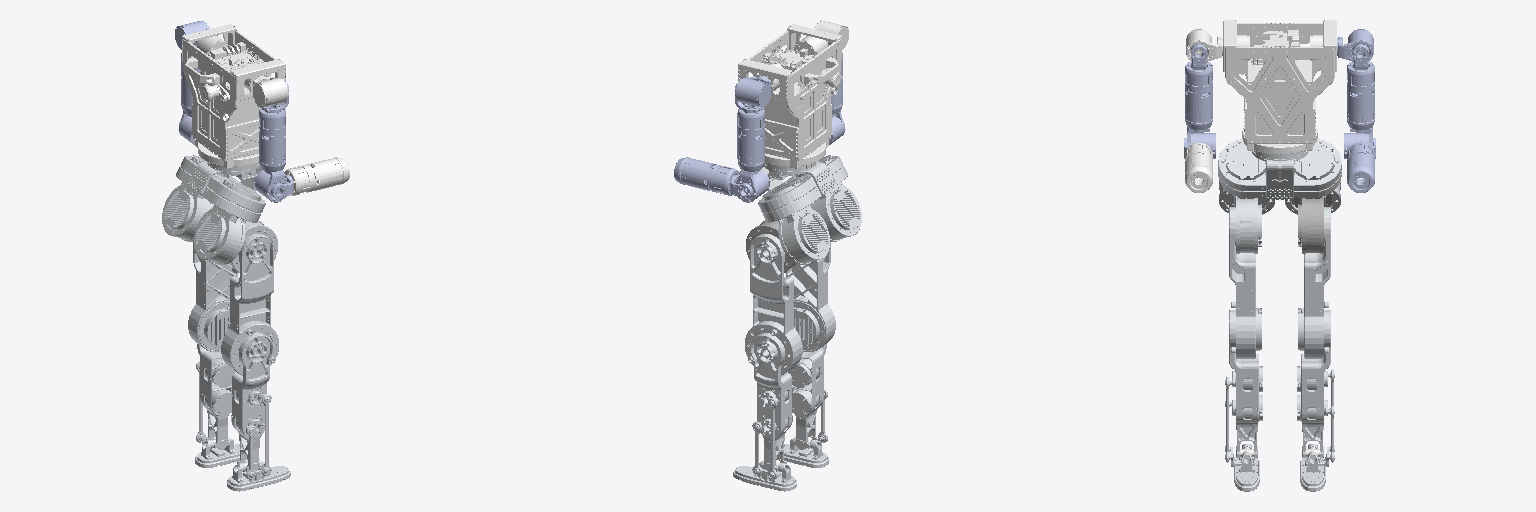
--- Facts derived from the render (not from the file) ---
Views: 3 orthographic renders of the robot side by side, from view 1: azimuth 30°, elevation 25°; view 2: azimuth 150°, elevation 25°; view 3: azimuth 270°, elevation 25°.
Model atom01urdf with 24 links and 23 joints (23 revolute), rooted at base_link, posed every joint at zero.
Visible links, largest first — view 1: torso_link, right_thigh_pitch_link, right_knee_link, base_link, left_thigh_pitch_link, left_knee_link, right_thigh_yaw_link, right_arm_yaw_link, left_thigh_yaw_link, right_elbow_yaw_link, right_ankle_roll_link, right_arm_pitch_link (+3 smaller); view 2: torso_link, left_thigh_pitch_link, left_knee_link, base_link, right_thigh_pitch_link, right_knee_link, left_thigh_yaw_link, left_arm_yaw_link, right_thigh_yaw_link, left_elbow_yaw_link, left_ankle_roll_link, left_arm_pitch_link (+3 smaller); view 3: torso_link, base_link, left_knee_link, right_knee_link, left_thigh_pitch_link, right_thigh_pitch_link, left_arm_yaw_link, right_arm_yaw_link, left_thigh_roll_link, right_thigh_roll_link, right_elbow_yaw_link, left_elbow_yaw_link (+4 smaller).
Boxes of the visible links, <box> form: torso_link: <box>182,24,285,168</box>; right_thigh_pitch_link: <box>221,233,278,375</box>; right_knee_link: <box>231,332,273,479</box>; base_link: <box>176,150,265,222</box>; left_thigh_pitch_link: <box>188,242,237,351</box>; left_knee_link: <box>196,344,235,449</box>; right_thigh_yaw_link: <box>194,205,245,264</box>; right_arm_yaw_link: <box>254,108,287,202</box>; left_thigh_yaw_link: <box>162,182,213,241</box>; right_elbow_yaw_link: <box>284,157,349,195</box>; right_ankle_roll_link: <box>227,459,290,491</box>; right_arm_pitch_link: <box>253,76,288,107</box>; torso_link: <box>738,24,841,168</box>; left_thigh_pitch_link: <box>745,234,802,375</box>; left_knee_link: <box>750,333,792,479</box>; base_link: <box>758,150,847,222</box>; right_thigh_pitch_link: <box>786,242,835,351</box>; right_knee_link: <box>788,344,827,449</box>; left_thigh_yaw_link: <box>778,205,829,264</box>; left_arm_yaw_link: <box>736,108,769,202</box>; right_thigh_yaw_link: <box>810,182,861,241</box>; left_elbow_yaw_link: <box>674,157,739,195</box>; left_ankle_roll_link: <box>733,460,796,491</box>; left_arm_pitch_link: <box>735,76,770,107</box>; torso_link: <box>1223,20,1336,154</box>; base_link: <box>1218,139,1341,199</box>; left_knee_link: <box>1297,310,1334,462</box>; right_knee_link: <box>1225,310,1262,462</box>; left_thigh_pitch_link: <box>1298,207,1330,358</box>; right_thigh_pitch_link: <box>1229,207,1261,358</box>; left_arm_yaw_link: <box>1344,62,1374,158</box>; right_arm_yaw_link: <box>1185,62,1215,158</box>; left_thigh_roll_link: <box>1294,194,1331,253</box>; right_thigh_roll_link: <box>1228,194,1265,253</box>; right_elbow_yaw_link: <box>1185,142,1212,192</box>; left_elbow_yaw_link: <box>1347,142,1374,192</box>.
Bounding box of the posed robot: 0.3188 × 0.4235 × 1.06 m (x, y, z).
Meshes: 24 distinct files referenced, 24 mesh visuals loaded (24 binary STL).

The robot description file, URDF, robot "atom01urdf":
<?xml version="1.0" encoding="utf-8"?>
<robot
  name="atom01urdf">
  <link
    name="base_link">
    <inertial>
    <mass value="5.38006123"/>
    <origin xyz="-0.04747316 -0.00000245 -0.01033754" rpy="0 0 0"/>
    <inertia ixx="0.03019625" ixy="0.00000001" ixz="-0.00325334"
             iyy="0.02710884" iyz="0.00000014"
             izz="0.04164465"/>
    </inertial>
    <visual>
      <origin
        xyz="0 0 0"
        rpy="0 0 0" />
      <geometry>
        <mesh
          filename="./meshes/base_link.STL" />
      </geometry>
      <material
        name="">
        <color
          rgba="0.898039215686275 0.917647058823529 0.929411764705882 1" />
      </material>
    </visual>
    <collision>
      <origin
        xyz="0 0 0"
        rpy="0 0 0" />
      <geometry>
        <mesh
          filename="./meshes/base_link.STL" />
      </geometry>
    </collision>
  </link>
  <link
    name="left_thigh_yaw_link">
    <inertial>
    <mass value="1.68866185"/>
    <origin xyz="-0.03860399 0.00000000 -0.05488876" rpy="0 0 0"/>
    <inertia ixx="0.00828412" ixy="0.00000001" ixz="-0.00427630"
             iyy="0.01007750" iyz="0.00000000"
             izz="0.00500466"/>
    </inertial>
    <visual>
      <origin
        xyz="0 0 0"
        rpy="0 0 0" />
      <geometry>
        <mesh
          filename="./meshes/left_thigh_yaw_link.STL" />
      </geometry>
      <material
        name="">
        <color
          rgba="0.898039215686275 0.917647058823529 0.929411764705882 1" />
      </material>
    </visual>
    <!-- <collision>
      <origin
        xyz="0 0 0"
        rpy="0 0 0" />
      <geometry>
        <mesh
          filename="./meshes/left_thigh_yaw_link.STL" />
      </geometry>
    </collision> -->
  </link>
  <joint
    name="left_thigh_yaw_joint"
    type="revolute">
    <origin
      xyz="-0.071093 0.0725 -0.051778"
      rpy="0 0 0" />
    <parent
      link="base_link" />
    <child
      link="left_thigh_yaw_link" />
    <axis
      xyz="-0.5 0 -0.86603" />    
    <limit
      lower="-1"
      upper="0.2"
      effort="80"
      velocity="10.47" />
  </joint>
  <link
    name="left_thigh_roll_link">
    <inertial>
    <mass value="1.71632646"/>
    <origin xyz="0.05565085 -0.00585964 -0.03213037" rpy="0 0 0"/>
    <inertia ixx="0.00408080" ixy="0.00060873" ixz="0.00328672"
             iyy="0.01086273" iyz="-0.00035146"
             izz="0.00787597"/>
    </inertial>
    <visual>
      <origin
        xyz="0 0 0"
        rpy="0 0 0" />
      <geometry>
        <mesh
          filename="./meshes/left_thigh_roll_link.STL" />
      </geometry>
      <material
        name="">
        <color
          rgba="0.752941176470588 0.752941176470588 0.752941176470588 1" />
      </material>
    </visual>
    <!-- <collision>
      <origin
        xyz="0 0 0"
        rpy="0 0 0" />
      <geometry>
        <mesh
          filename="./meshes/left_thigh_roll_link.STL" />
      </geometry>
    </collision> -->
  </link>
  <joint
    name="left_thigh_roll_joint"
    type="revolute">
    <origin
      xyz="-0.017693 0 -0.072346"
      rpy="0 0 0" />
    <parent
      link="left_thigh_yaw_link" />
    <child
      link="left_thigh_roll_link" />
    <axis
      xyz="0.86603 0 -0.5" />
    <limit
      lower="-0.2"
      upper="1"
      effort="80"
      velocity="10.47" />
  </joint>
  <link
    name="left_thigh_pitch_link">
    <inertial>
    <mass value="2.34600762"/>
    <origin xyz="0.00004587 -0.01904764 -0.19858147" rpy="0 0 0"/>
    <inertia ixx="0.11355467" ixy="-0.00000105" ixz="0.00003567"
             iyy="0.11410206" iyz="-0.01102469"
             izz="0.00388054"/>
    </inertial>
    <visual>
      <origin
        xyz="0 0 0"
        rpy="0 0 0" />
      <geometry>
        <mesh
          filename="./meshes/left_thigh_pitch_link.STL" />
      </geometry>
      <material
        name="">
        <color
          rgba="0.898039215686275 0.917647058823529 0.929411764705882 1" />
      </material>
    </visual>
    <!-- <collision>
      <origin
        xyz="0 0 0"
        rpy="0 0 0" />
      <geometry>
        <mesh
          filename="./meshes/left_thigh_pitch_link.STL" />
      </geometry>
    </collision> -->
    <collision>
      <origin
        xyz="0.0 0 -0.08"
        rpy="0 0 0" />
      <geometry>
        <box name="left_thigh_pitch_link" size="0.08 0.1 0.22"/>
      </geometry>
    </collision>
  </link>
  <joint
    name="left_thigh_pitch_joint"
    type="revolute">
    <origin
      xyz="0.060622 0.02085 -0.035"
      rpy="0 0 0" />
    <parent
      link="left_thigh_roll_link" />
    <child
      link="left_thigh_pitch_link" />
    <axis
      xyz="0 1 0" />
    <limit
      lower="-1"
      upper="1"
      effort="80"
      velocity="10.47" />
  </joint>
  <link
    name="left_knee_link">
    <inertial>
    <mass value="1.79036871"/>
    <origin xyz="-0.00032236 -0.01251629 -0.14554011" rpy="0 0 0"/>
    <inertia ixx="0.05037722" ixy="0.00001321" ixz="-0.00005629"
             iyy="0.04980070" iyz="-0.00362648"
             izz="0.00144706"/>
    </inertial>
    <visual>
      <origin
        xyz="0 0 0"
        rpy="0 0 0" />
      <geometry>
        <mesh
          filename="./meshes/left_knee_link.STL" />
      </geometry>
      <material
        name="">
        <color
          rgba="0.898039215686275 0.917647058823529 0.929411764705882 1" />
      </material>
    </visual>
    <!-- <collision>
      <origin
        xyz="0 0 0"
        rpy="0 0 0" />
      <geometry>
        <mesh
          filename="./meshes/left_knee_link.STL" />
      </geometry>
    </collision> -->
    <collision>
      <origin
        xyz="0.0 0 -0.15"
        rpy="0 0 0" />
      <geometry>
        <box name="right_knee_link" size="0.08 0.08 0.22"/>
      </geometry>
    </collision>
  </link>
  <joint
    name="left_knee_joint"
    type="revolute">
    <origin
      xyz="0 0 -0.25"
      rpy="0 0 0" />
    <parent
      link="left_thigh_pitch_link" />
    <child
      link="left_knee_link" />
    <axis
      xyz="0 1 0" />
    <limit
      lower="-0.2"
      upper="2.5"
      effort="80"
      velocity="10.47" />
  </joint>
  <link
    name="left_ankle_pitch_link">
    <inertial>
      <origin
        xyz="0 0 0"
        rpy="0 0 0" />
      <mass
        value="0.084" />
      <inertia
        ixx="0.00000863"
        ixy="0"
        ixz="0"
        iyy="0.00000863"
        iyz="0"
        izz="0.00001448" />
    </inertial>
    <visual>
      <origin
        xyz="0 0 0"
        rpy="0 0 0" />
      <geometry>
        <mesh
          filename="./meshes/left_ankle_pitch_link.STL" />
      </geometry>
      <material
        name="">
        <color
          rgba="1 1 1 1" />
      </material>
    </visual>
    <!-- <collision>
      <origin
        xyz="0 0 0"
        rpy="0 0 0" />
      <geometry>
        <mesh
          filename="./meshes/left_ankle_pitch_link.STL" />
      </geometry>
    </collision> -->
  </link>
  <joint
    name="left_ankle_pitch_joint"
    type="revolute">
    <origin
      xyz="0 -0.02085 -0.3"
      rpy="0 0 0" />
    <parent
      link="left_knee_link" />
    <child
      link="left_ankle_pitch_link" />
    <axis
      xyz="0 1 0" />
    <limit
      lower="-0.6"
      upper="0.6"
      effort="18"
      velocity="3.7692" />
  </joint>
  <link
    name="left_ankle_roll_link">
    <inertial>
      <origin
        xyz="0.01590617  0.00230268 -0.02949007"
        rpy="0 0 0" />
      <mass
        value="0.30640039 " />
      <inertia ixx="0.00038476" ixy="0.0" ixz="0.00017084"
           iyy="0.00086435" iyz="0.00000894"
           izz="0.00063926"/>
    </inertial>
    <visual>
      <origin
        xyz="0 0 0"
        rpy="0 0 0" />
      <geometry>
        <mesh
          filename="./meshes/left_ankle_roll_link.STL" />
      </geometry>
      <material
        name="">
        <color
          rgba="0.898039215686275 0.917647058823529 0.929411764705882 1" />
      </material>
    </visual>
    <collision>
      <origin
        xyz="0 0 0"
        rpy="0 0 0" />
      <geometry>
        <mesh
          filename="./meshes/left_ankle_roll_link.STL" />
      </geometry>
    </collision>
  </link>
  <joint
    name="left_ankle_roll_joint"
    type="revolute">
    <origin
      xyz="0 0 0"
      rpy="0 0 0" />
    <parent
      link="left_ankle_pitch_link" />
    <child
      link="left_ankle_roll_link" />
    <axis
      xyz="1 0 0" />
    <limit
      lower="-0.5"
      upper="0.5"
      effort="18"
      velocity="3.7692" />
  </joint>
  <link
    name="right_thigh_yaw_link">
    <inertial>
    <mass value="1.68565743"/>
    <origin xyz="-0.03859500 0.00000000 -0.05502715" rpy="0 0 0"/>
    <inertia ixx="0.00828370" ixy="0.00000001" ixz="-0.00427632"
             iyy="0.01007691" iyz="0.00000000"
             izz="0.00500350"/>
    </inertial>
    <visual>
      <origin
        xyz="0 0 0"
        rpy="0 0 0" />
      <geometry>
        <mesh
          filename="./meshes/right_thigh_yaw_link.STL" />
      </geometry>
      <material
        name="">
        <color
          rgba="0.898039215686275 0.917647058823529 0.929411764705882 1" />
      </material>
    </visual>
    <!-- <collision>
      <origin
        xyz="0 0 0"
        rpy="0 0 0" />
      <geometry>
        <mesh
          filename="./meshes/right_thigh_yaw_link.STL" />
      </geometry>
    </collision> -->
  </link>
  <joint
    name="right_thigh_yaw_joint"
    type="revolute">
    <origin
      xyz="-0.071093 -0.0725 -0.051778"
      rpy="0 0 0" />
    <parent
      link="base_link" />
    <child
      link="right_thigh_yaw_link" />
    <axis
      xyz="-0.5 0 -0.86603" />
    <limit
      lower="-0.2"
      upper="1"
      effort="80"
      velocity="10.47" />
  </joint>
  <link
    name="right_thigh_roll_link">
    <inertial>
    <mass value="1.71632646"/>
    <origin xyz="0.05695017 0.00585964 -0.03287986" rpy="0 0 0"/>
    <inertia ixx="0.00416447" ixy="-0.00062180" ixz="0.00343166"
             iyy="0.01119747" iyz="0.00035899"
             izz="0.00812703"/>
    </inertial>
    <visual>
      <origin
        xyz="0 0 0"
        rpy="0 0 0" />
      <geometry>
        <mesh
          filename="./meshes/right_thigh_roll_link.STL" />
      </geometry>
      <material
        name="">
        <color
          rgba="0.898039215686275 0.917647058823529 0.929411764705882 1" />
      </material>
    </visual>
    <!-- <collision>
      <origin
        xyz="0 0 0"
        rpy="0 0 0" />
      <geometry>
        <mesh
          filename="./meshes/right_thigh_roll_link.STL" />
      </geometry>
    </collision> -->
  </link>
  <joint
    name="right_thigh_roll_joint"
    type="revolute">
    <origin
      xyz="-0.0189924084475403 0 -0.0715958163677252"
      rpy="0 0 0" />
    <parent
      link="right_thigh_yaw_link" />
    <child
      link="right_thigh_roll_link" />
    <axis
      xyz="0.86603 0 -0.5" />
    <limit
      lower="-1"
      upper="0.2"
      effort="80"
      velocity="10.47" />
  </joint>
  <link
    name="right_thigh_pitch_link">
    <inertial>
    <mass value="2.34600762"/>
    <origin xyz="0.00004584 0.01904764 -0.19858147" rpy="0 0 0"/>
    <inertia ixx="0.11355467" ixy="0.00000105" ixz="0.00003566"
             iyy="0.11410206" iyz="0.01102469"
             izz="0.00388054"/>
    </inertial>
    <visual>
      <origin
        xyz="0 0 0"
        rpy="0 0 0" />
      <geometry>
        <mesh
          filename="./meshes/right_thigh_pitch_link.STL" />
      </geometry>
      <material
        name="">
        <color
          rgba="0.898039215686275 0.917647058823529 0.929411764705882 1" />
      </material>
    </visual>
    <!-- <collision>
      <origin
        xyz="0 0 0"
        rpy="0 0 0" />
      <geometry>
        <mesh
          filename="./meshes/right_thigh_pitch_link.STL" />
      </geometry>
    </collision> -->
     <collision>
      <origin
        xyz="0.0 0 -0.08"
        rpy="0 0 0" />
      <geometry>
        <box name="right_thigh_pitch_link" size="0.08 0.1 0.22"/>
      </geometry>
    </collision>
  </link>
  <joint
    name="right_thigh_pitch_joint"
    type="revolute">
    <origin
      xyz="0.0619208163652291 -0.0208499999999942 -0.0357500000093095"
      rpy="0 0 0" />
    <parent
      link="right_thigh_roll_link" />
    <child
      link="right_thigh_pitch_link" />
    <axis
      xyz="0 1 0" />
    <limit
      lower="-1"
      upper="1"
      effort="80"
      velocity="10.47" />
  </joint>
  <link
    name="right_knee_link">
    <inertial>
    <mass value="1.79036871"/>
    <origin xyz="0.00034876 0.01251629 -0.14550316" rpy="0 0 0"/>
    <inertia ixx="0.05035671" ixy="0.00001321" ixz="0.00006361"
             iyy="0.04978019" iyz="0.00362648"
             izz="0.00144706"/>
    </inertial>
    <visual>
      <origin
        xyz="0 0 0"
        rpy="0 0 0" />
      <geometry>
        <mesh
          filename="./meshes/right_knee_link.STL" />
      </geometry>
      <material
        name="">
        <color
          rgba="0.898039215686275 0.917647058823529 0.929411764705882 1" />
      </material>
    </visual>
    <!-- <collision>
      <origin
        xyz="0 0 0"
        rpy="0 0 0" />
      <geometry>
        <mesh
          filename="./meshes/right_knee_link.STL" />
      </geometry>
    </collision> -->
    <collision>
      <origin
        xyz="0.0 0 -0.15"
        rpy="0 0 0" />
      <geometry>
        <box name="right_knee_link" size="0.08 0.08 0.22"/>
      </geometry>
    </collision>
  </link>
  <joint
    name="right_knee_joint"
    type="revolute">
    <origin
      xyz="0 0 -0.250000000000016"
      rpy="0 0 0" />
    <parent
      link="right_thigh_pitch_link" />
    <child
      link="right_knee_link" />
    <axis
      xyz="0 1 0" />
    <limit
      lower="-0.2"
      upper="2.5"
      effort="80"
      velocity="10.47" />
  </joint>
  <link
    name="right_ankle_pitch_link">
    <inertial>
      <origin
        xyz="0 0 0"
        rpy="0 0 0" />
      <mass
        value="0.084" />
      <inertia
        ixx="0.00000863"
        ixy="0"
        ixz="0"
        iyy="0.00000863"
        iyz="0"
        izz="0.00001448" />
    </inertial>
    <visual>
      <origin
        xyz="0 0 0"
        rpy="0 0 0" />
      <geometry>
        <mesh
          filename="./meshes/right_ankle_pitch_link.STL" />
      </geometry>
      <material
        name="">
        <color
          rgba="1 1 1 1" />
      </material>
    </visual>
    <!-- <collision>
      <origin
        xyz="0 0 0"
        rpy="0 0 0" />
      <geometry>
        <mesh
          filename="./meshes/right_ankle_pitch_link.STL" />
      </geometry>
    </collision> -->
  </link>
  <joint
    name="right_ankle_pitch_joint"
    type="revolute">
    <origin
      xyz="0 0.0208500000000073 -0.299999999999986"
      rpy="0 0 0" />
    <parent
      link="right_knee_link" />
    <child
      link="right_ankle_pitch_link" />
    <axis
      xyz="0 1 0" />
    <limit
      lower="-0.6"
      upper="0.6"
      effort="18"
      velocity="3.7692" />
  </joint>
  <link
    name="right_ankle_roll_link">
    <inertial>
      <origin
        xyz="0.01590617 -0.00230290  -0.02949007"
        rpy="0 0 0" />
      <mass
        value=" 0.30640039" />
       <inertia ixx="0.00038476" ixy="0.00000000" ixz="0.00017084"
           iyy="0.00086435" iyz="-0.00000894"
           izz="0.00063926"/>
    </inertial>
    <visual>
      <origin
        xyz="0 0 0"
        rpy="0 0 0" />
      <geometry>
        <mesh
          filename="./meshes/right_ankle_roll_link.STL" />
      </geometry>
      <material
        name="">
        <color
          rgba="0.898039215686275 0.917647058823529 0.929411764705882 1" />
      </material>
    </visual>
    <collision>
      <origin
        xyz="0 0 0"
        rpy="0 0 0" />
      <geometry>
        <mesh
          filename="./meshes/right_ankle_roll_link.STL" />
      </geometry>
    </collision>
  </link>
  <joint
    name="right_ankle_roll_joint"
    type="revolute">
    <origin
      xyz="0 0 0"
      rpy="0 0 0" />
    <parent
      link="right_ankle_pitch_link" />
    <child
      link="right_ankle_roll_link" />
    <axis
      xyz="1 0 0" />
    <limit
      lower="-0.5"
      upper="0.5"
      effort="18"
      velocity="3.7692" />
  </joint>
  <link
    name="torso_link">
    <inertial>
      <origin
        xyz=" -0.00232713 -0.00003499 0.09671181"
        rpy="0 0 0" />
      <mass
        value="7.70005232 " />
       <inertia ixx="0.14285885" ixy="-0.00004101" ixz="0.00400640"
           iyy="0.13043257" iyz="0.00003257"
           izz="0.03968469"/>
    </inertial>
    <visual>
      <origin
        xyz="0 0 0"
        rpy="0 0 0" />
      <geometry>
        <mesh
          filename="./meshes/torso_link.STL" />
      </geometry>
      <material
        name="">
        <color
          rgba="1 1 1 1" />
      </material>
    </visual>
    <collision>
      <origin
        xyz="0 0 0.15"
        rpy="0 0 0" />
      <geometry>
        <box name="torso_link" size="0.16 0.16 0.22"/>
      </geometry>
    </collision>
  </link>
  <joint
    name="torso_joint"
    type="revolute">
    <origin
      xyz="-0.0281649492242451 0 0.0672000000054882"
      rpy="0 0 0" />
    <parent
      link="base_link" />
    <child
      link="torso_link" />
    <axis
      xyz="0 0 1" />
    <limit
      lower="-3.14"
      upper="3.14"
      effort="80"
      velocity="10.47" />
  </joint>
  <link
    name="left_arm_pitch_link">
    <inertial>
    <mass value="0.47178757"/>
    <origin xyz="-0.00442275 0.04993792 0.00005596" rpy="0 0 0"/>
    <inertia ixx="0.00133228" ixy="0.00012643" ixz="-0.00000056"
             iyy="0.00008982" iyz="-0.00000148"
             izz="0.00137408"/>
    </inertial>
    <visual>
      <origin
        xyz="0 0 0"
        rpy="0 0 0" />
      <geometry>
        <mesh
          filename="./meshes/left_arm_pitch_link.STL" />
      </geometry>
      <material
        name="">
        <color
          rgba="0.796078431372549 0.823529411764706 0.937254901960784 1" />
      </material>
    </visual>
    <collision>
      <origin
        xyz="0 0.055 0"
        rpy="0 1.57 0" />
      <geometry>
         <cylinder radius="0.03" length="0.05"/>
      </geometry>
    </collision>
  </link>
  <joint
    name="left_arm_pitch_joint"
    type="revolute">
    <origin
      xyz="0 0.121749999999383 0.206175860782433"
      rpy="0 0 0" />
    <parent
      link="torso_link" />
    <child
      link="left_arm_pitch_link" />
    <axis
      xyz="0 1 0" />
    <limit
      lower="-1.57"
      upper="1.57"
      effort="18"
      velocity="3.7692" />
  </joint>
  <link
    name="left_arm_roll_link">
    <inertial>
      <origin
        xyz="-0.00433076 0 -0.02378501"
        rpy="0 0 0" />
      <mass
        value="0.09168685" />
     <inertia ixx="0.00010210" ixy="0.0" ixz="-0.00002948"
           iyy="0.00011636" iyz="0.0"
           izz="0.00003231"/>
    </inertial>
    <visual>
      <origin
        xyz="0 0 0"
        rpy="0 0 0" />
      <geometry>
        <mesh
          filename="./meshes/left_arm_roll_link.STL" />
      </geometry>
      <material
        name="">
        <color
          rgba="0.796078431372549 0.823529411764706 0.937254901960784 1" />
      </material>
    </visual>
    <collision>
      <origin
        xyz="-0.02 0 -0.12"
        rpy="0 0 0" />
      <geometry>
         <cylinder radius="0.03" length="0.10"/>
      </geometry>
    </collision>
  </link>
  <joint
    name="left_arm_roll_joint"
    type="revolute">
    <origin
      xyz="0.0200000000000018 0.056 0"
      rpy="0 0 0" />
    <parent
      link="left_arm_pitch_link" />
    <child
      link="left_arm_roll_link" />
    <axis
      xyz="1 0 0" />
    <limit
      lower="-0.25"
      upper="1"
      effort="18"
      velocity="3.7692" />
  </joint>
  <link
    name="left_arm_yaw_link">
    <inertial>
    <mass value="1.15324429"/>
    <origin xyz="-0.00004328 -0.00182110 -0.10615897" rpy="0 0 0"/>
    <inertia ixx="0.01919610" ixy="-0.00000011" ixz="-0.00000607"
             iyy="0.01915491" iyz="-0.00040415"
             izz="0.00033463"/>
    </inertial>
    <visual>
      <origin
        xyz="0 0 0"
        rpy="0 0 0" />
      <geometry>
        <mesh
          filename="./meshes/left_arm_yaw_link.STL" />
      </geometry>
      <material
        name="">
        <color
          rgba="0.796078431372549 0.823529411764706 0.937254901960784 1" />
      </material>
    </visual>
    <collision>
      <origin
        xyz="0 0 -0.19"
        rpy="0 1.57 1.57" />
      <geometry>
        <cylinder radius="0.03" length="0.05"/>
      </geometry>
    </collision>
  </link>
  <joint
    name="left_arm_yaw_joint"
    type="revolute">
    <origin
      xyz="-0.0200000000000002 0 -0.049999999999998"
      rpy="0 0 0" />
    <parent
      link="left_arm_roll_link" />
    <child
      link="left_arm_yaw_link" />
    <axis
      xyz="0 0 -1" />
    <limit
      lower="-1.57"
      upper="1.57"
      effort="18"
      velocity="3.7692" />
  </joint>
  <link
    name="left_elbow_pitch_link">
    <inertial>
      <origin
        xyz="0.02378501 -0.00433076  0.00000000"
        rpy="0 0 0" />
      <mass
        value="0.09168685" />
       <inertia ixx="0.00003231" ixy="0.00002948" ixz="0.0"
           iyy="0.00010210" iyz="0.0"
           izz="0.00011636"/>
    </inertial>
    <visual>
      <origin
        xyz="0 0 0"
        rpy="0 0 0" />
      <geometry>
        <mesh
          filename="./meshes/left_elbow_pitch_link.STL" />
      </geometry>
      <material
        name="">
        <color
          rgba="0.796078431372549 0.823529411764706 0.937254901960784 1" />
      </material>
    </visual>
    <collision>
      <origin
        xyz="0.10 -0.02 0"
        rpy="0 1.57 0" />
      <geometry>
          <cylinder radius="0.03" length="0.10"/>
      </geometry>
    </collision>
  </link>
  <joint
    name="left_elbow_pitch_joint"
    type="revolute">
    <origin
      xyz="0 0.0199999999999982 -0.188749999999997"
      rpy="0 0 0" />
    <parent
      link="left_arm_yaw_link" />
    <child
      link="left_elbow_pitch_link" />
    <axis
      xyz="0 1 0" />
    <limit
      lower="-0.6"
      upper="1.57"
      effort="18"
      velocity="3.7692" />
  </joint>
  <link
    name="left_elbow_yaw_link">
    <inertial>
    <mass value="0.68145673"/>
    <origin xyz="0.05317629 -0.00003450 -0.00001992" rpy="0 0 0"/>
    <inertia ixx="0.00024481" ixy="0.00000117" ixz="0.00000058"
             iyy="0.00325259" iyz="-0.00000060"
             izz="0.00325345"/>
    </inertial>
    <visual>
      <origin
        xyz="0 0 0"
        rpy="0 0 0" />
      <geometry>
        <mesh
          filename="./meshes/left_elbow_yaw_link.STL" />
      </geometry>
      <material
        name="">
        <color
          rgba="0.796078431372549 0.823529411764706 0.937254901960784 1" />
      </material>
    </visual>
    <!-- <collision>
      <origin
        xyz="0 0 0"
        rpy="0 0 0" />
      <geometry>
        <mesh
          filename="./meshes/left_elbow_yaw_link.STL" />
      </geometry>
    </collision> -->
  </link>
  <joint
    name="left_elbow_yaw_joint"
    type="revolute">
    <origin
      xyz="0.0499999999999968 -0.0199999999999994 0"
      rpy="0 0 0" />
    <parent
      link="left_elbow_pitch_link" />
    <child
      link="left_elbow_yaw_link" />
    <axis
      xyz="1 0 0" />
    <limit
      lower="-1.57"
      upper="1.57"
      effort="18"
      velocity="3.7692" />
  </joint>
  <link
    name="right_arm_pitch_link">
    <inertial>
    <mass value="0.47178757"/>
    <origin xyz="-0.00442275 -0.04993792 0.00005596" rpy="0 0 0"/>
    <inertia ixx="0.00133228" ixy="-0.00012643" ixz="-0.00000056"
             iyy="0.00008982" iyz="0.00000148"
             izz="0.00137408"/>
    </inertial>
    <visual>
      <origin
        xyz="0 0 0"
        rpy="0 0 0" />
      <geometry>
        <mesh
          filename="./meshes/right_arm_pitch_link.STL" />
      </geometry>
      <material
        name="">
        <color
          rgba="1 1 1 1" />
      </material>
    </visual>
    <collision>
      <origin
        xyz="0 -0.055 0"
        rpy="0 1.57 0" />
      <geometry>
         <cylinder radius="0.03" length="0.05"/>
      </geometry>
    </collision>
  </link>
  <joint
    name="right_arm_pitch_joint"
    type="revolute">
    <origin
      xyz="0 -0.121750000000346 0.206175860781721"
      rpy="0 0 0" />
    <parent
      link="torso_link" />
    <child
      link="right_arm_pitch_link" />
    <axis
      xyz="0 1 0" />
    <limit
      lower="-1.57"
      upper="1.57"
      effort="18"
      velocity="3.7692" />
  </joint>
  <link
    name="right_arm_roll_link">
    <inertial>
      <origin
        xyz="-0.00433076 0.00000000  -0.02378501"
        rpy="0 0 0" />
      <mass
        value="0.09168685" />
 <inertia ixx="0.00010210" ixy="0.0" ixz="-0.00002948"
           iyy="0.00011636" iyz="0.0"
           izz="0.00003231"/>
    </inertial>
    <visual>
      <origin
        xyz="0 0 0"
        rpy="0 0 0" />
      <geometry>
        <mesh
          filename="./meshes/right_arm_roll_link.STL" />
      </geometry>
      <material
        name="">
        <color
          rgba="0.796078431372549 0.823529411764706 0.937254901960784 1" />
      </material>
    </visual>
     <collision>
      <origin
        xyz="-0.02 0 -0.12"
        rpy="0 0 0" />
      <geometry>
         <cylinder radius="0.03" length="0.10"/>
      </geometry>
    </collision>
  </link>
  <joint
    name="right_arm_roll_joint"
    type="revolute">
    <origin
      xyz="0.0200000000000407 -0.056 0"
      rpy="0 0 0" />
    <parent
      link="right_arm_pitch_link" />
    <child
      link="right_arm_roll_link" />
    <axis
      xyz="1 0 0" />
    <limit
      lower="-1"
      upper="0.25"
      effort="18"
      velocity="3.7692" />
  </joint>
  <link
    name="right_arm_yaw_link">
    <inertial>
    <mass value="1.15324429"/>
    <origin xyz="-0.00002289 0.00183287 -0.10615897" rpy="0 0 0"/>
    <inertia ixx="0.01919714" ixy="-0.00000049" ixz="-0.00000506"
             iyy="0.01915387" iyz="0.00040473"
             izz="0.00033463"/>
    </inertial>
    <visual>
      <origin
        xyz="0 0 0"
        rpy="0 0 0" />
      <geometry>
        <mesh
          filename="./meshes/right_arm_yaw_link.STL" />
      </geometry>
      <material
        name="">
        <color
          rgba="0.796078431372549 0.823529411764706 0.937254901960784 1" />
      </material>
    </visual>
    <collision>
      <origin
        xyz="0 0 -0.19"
        rpy="0 1.57 1.57" />
      <geometry>
        <cylinder radius="0.03" length="0.05"/>
      </geometry>
    </collision>
  </link>
  <joint
    name="right_arm_yaw_joint"
    type="revolute">
    <origin
      xyz="-0.02 0 -0.0500000000000019"
      rpy="0 0 0" />
    <parent
      link="right_arm_roll_link" />
    <child
      link="right_arm_yaw_link" />
    <axis
      xyz="0 0 -1" />
    <limit
      lower="-1.57"
      upper="1.57"
      effort="18"
      velocity="3.7692" />
  </joint>
  <link
    name="right_elbow_pitch_link">
    <inertial>
      <origin
        xyz="0.02378501  0.00433076 0"
        rpy="0 0 0" />
      <mass
        value="0.09168685" />
      <inertia ixx="0.00003231" ixy="-0.00002948" ixz="0.0"
           iyy="0.00010210" iyz="0.0"
           izz="0.00011636"/>
    </inertial>
    <visual>
      <origin
        xyz="0 0 0"
        rpy="0 0 0" />
      <geometry>
        <mesh
          filename="./meshes/right_elbow_pitch_link.STL" />
      </geometry>
      <material
        name="">
        <color
          rgba="0.796078431372549 0.823529411764706 0.937254901960784 1" />
      </material>
    </visual>
    <collision>
      <origin
        xyz="0.10 0.02 0"
        rpy="0 1.57 0" />
      <geometry>
          <cylinder radius="0.03" length="0.10"/>
      </geometry>
    </collision>
  </link>
  <joint
    name="right_elbow_pitch_joint"
    type="revolute">
    <origin
      xyz="0 -0.0200000000000019 -0.18875"
      rpy="0 0 0" />
    <parent
      link="right_arm_yaw_link" />
    <child
      link="right_elbow_pitch_link" />
    <axis
      xyz="0 1 0" />
    <limit
      lower="-0.6"
      upper="1.57"
      effort="18"
      velocity="3.7692" />
  </joint>
  <link
    name="right_elbow_yaw_link">
    <inertial>
    <mass value="0.68145673"/>
    <origin xyz="0.05317629 0.00003450 0.00001992" rpy="0 0 0"/>
    <inertia ixx="0.00024481" ixy="-0.00000117" ixz="-0.00000058"
             iyy="0.00325259" iyz="-0.00000060"
             izz="0.00325345"/>
    </inertial>
    <visual>
      <origin
        xyz="0 0 0"
        rpy="0 0 0" />
      <geometry>
        <mesh
          filename="./meshes/right_elbow_yaw_link.STL" />
      </geometry>
      <material
        name="">
        <color
          rgba="1 1 1 1" />
      </material>
    </visual>
    <!-- <collision>
      <origin
        xyz="0 0 0"
        rpy="0 0 0" />
      <geometry>
        <mesh
          filename="./meshes/right_elbow_yaw_link.STL" />
      </geometry>
    </collision> -->
  </link>
  <joint
    name="right_elbow_yaw_joint"
    type="revolute">
    <origin
      xyz="0.0500000000000002 0.0200000000000004 0"
      rpy="0 0 0" />
    <parent
      link="right_elbow_pitch_link" />
    <child
      link="right_elbow_yaw_link" />
    <axis
      xyz="1 0 0" />
    <limit
      lower="-1.57"
      upper="1.57"
      effort="18"
      velocity="3.7692" />
  </joint>
</robot>
